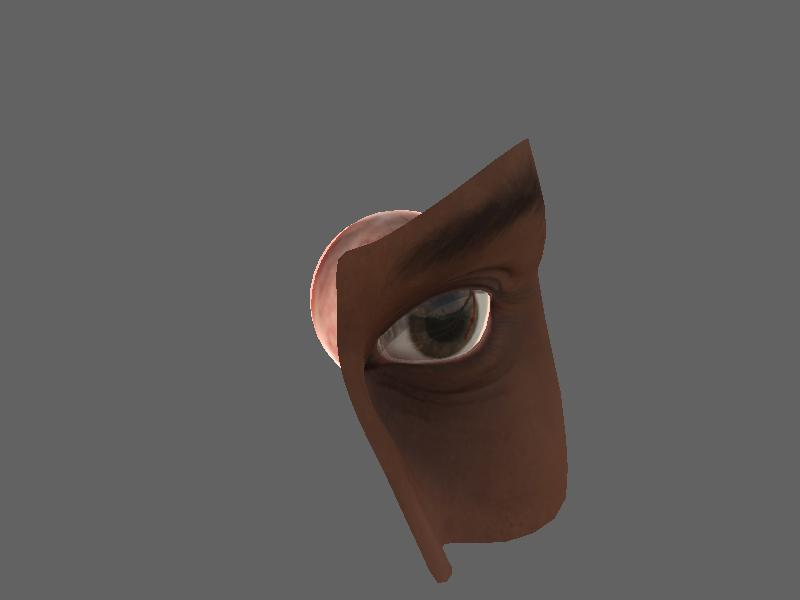iris: (416, 295, 482, 358)
